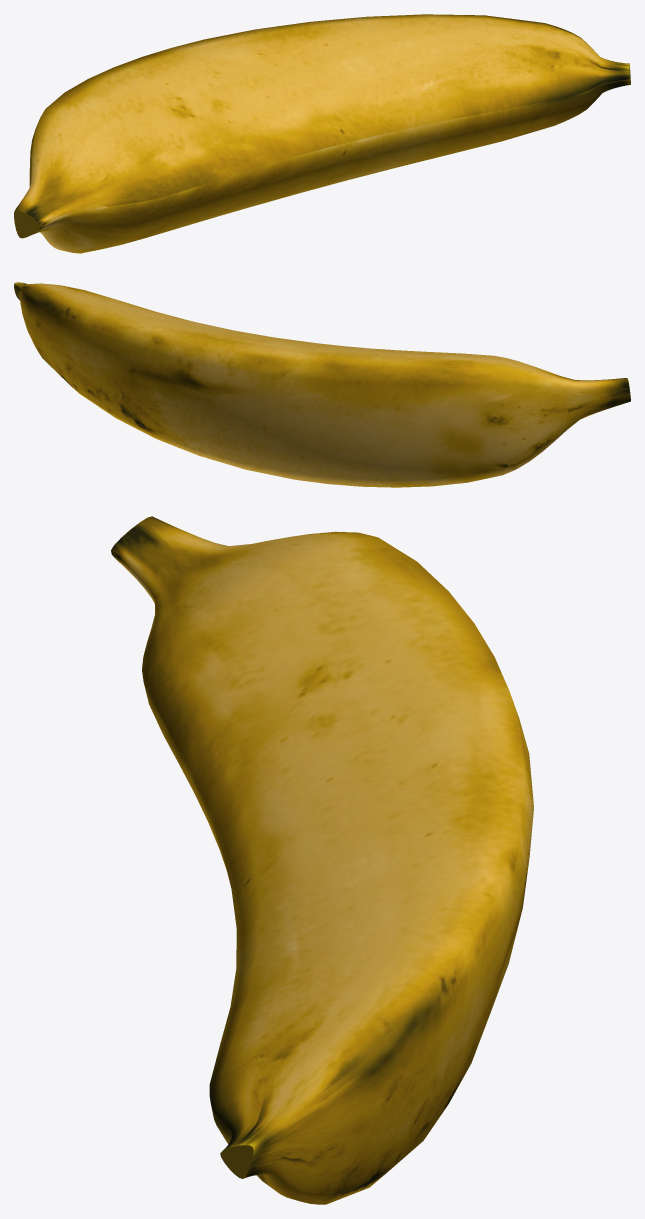
The model's file is Single_Banana.fbx.
3 views of the same model, one above another, from view 1: azimuth 30°, elevation 25°; view 2: azimuth 150°, elevation 25°; view 3: azimuth 270°, elevation 25° (orthographic). The views are drawn at different scales.
Visible parts, largest first — view 1: polySurface3; view 2: polySurface3; view 3: polySurface3.
Part boxes in pixels (x1,y1,x2,y2): polySurface3: (14,14,630,253); polySurface3: (14,282,630,487); polySurface3: (111,516,533,1204).
Size of the model in its own units: 178 by 41.88 by 55.25.
Materials: 1 (1 with a texture image).
